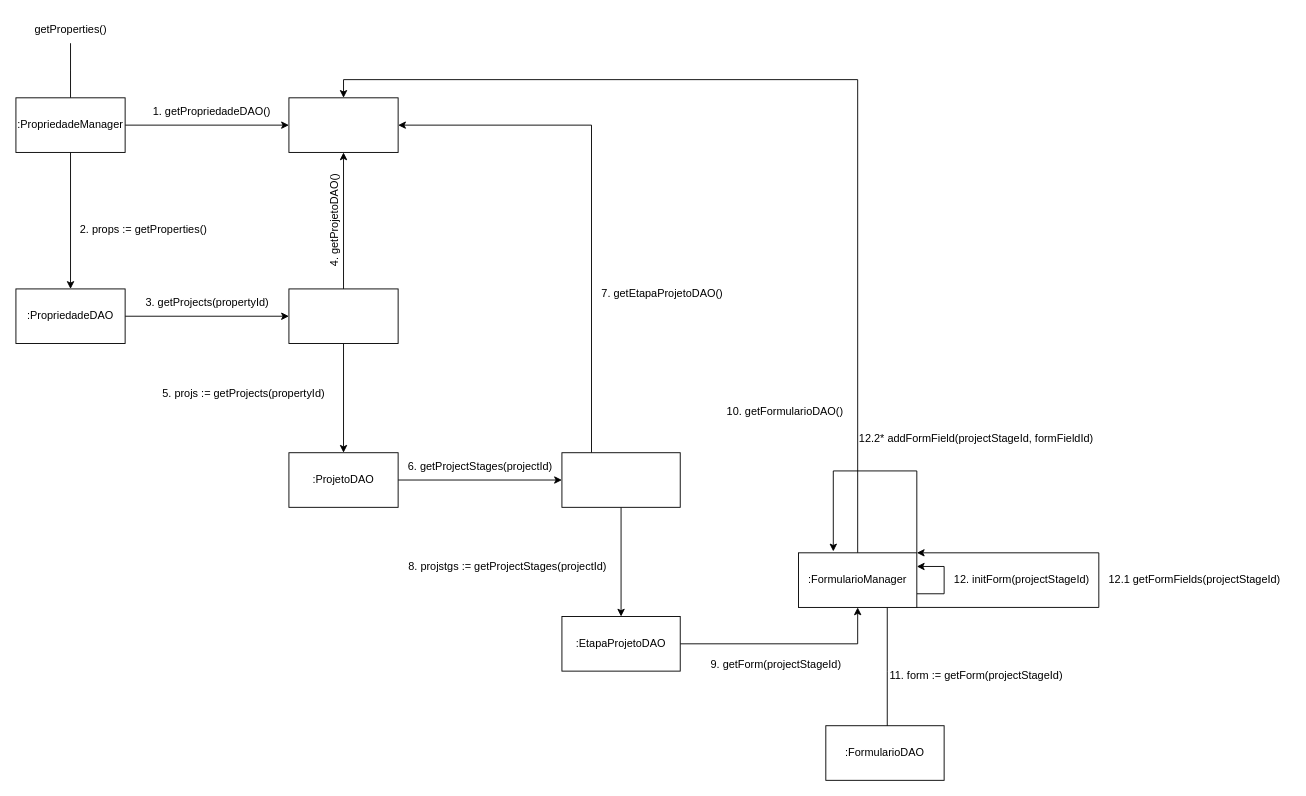
The diagram is 1306 pixels wide and 796 high, and some of its shapes have lost their labels. The centre of each missing label's shape, as x and y in pixels:
":DaoManager" goes at pixel 343 124.
":EtapaProjetoManager" goes at pixel 620 479.
":ProjetoManager" goes at pixel 343 316.
